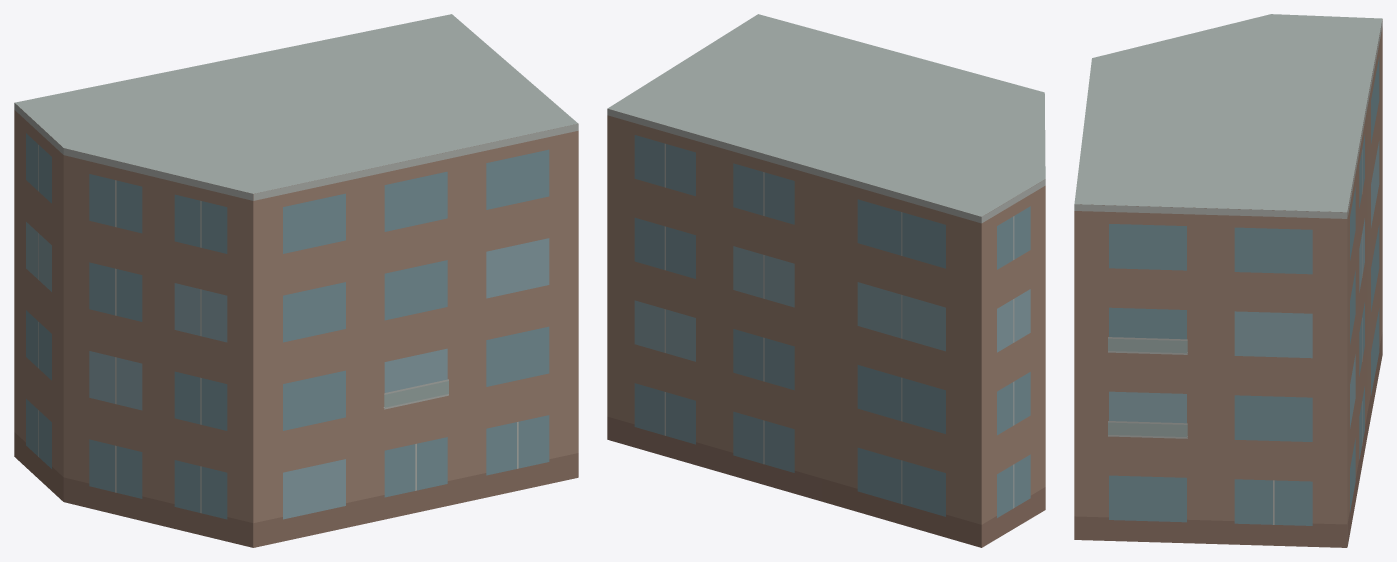
The model's file is survey-upis-32987572.glb.
3 renders of one model, left to right at view 1: azimuth 30°, elevation 25°; view 2: azimuth 150°, elevation 25°; view 3: azimuth 270°, elevation 25°, orthographic. The views are drawn at different scales.
Visible parts, largest first — view 1: survey-upis-32987572.tmp; view 2: survey-upis-32987572.tmp; view 3: survey-upis-32987572.tmp.
Boxes of the visible parts, x1,y1,x2,y2 form: survey-upis-32987572.tmp: (14, 14, 578, 547); survey-upis-32987572.tmp: (607, 14, 1045, 547); survey-upis-32987572.tmp: (1074, 14, 1382, 547).
Bounding box in the file's own units: 15.47 × 12.2 × 10.17.
